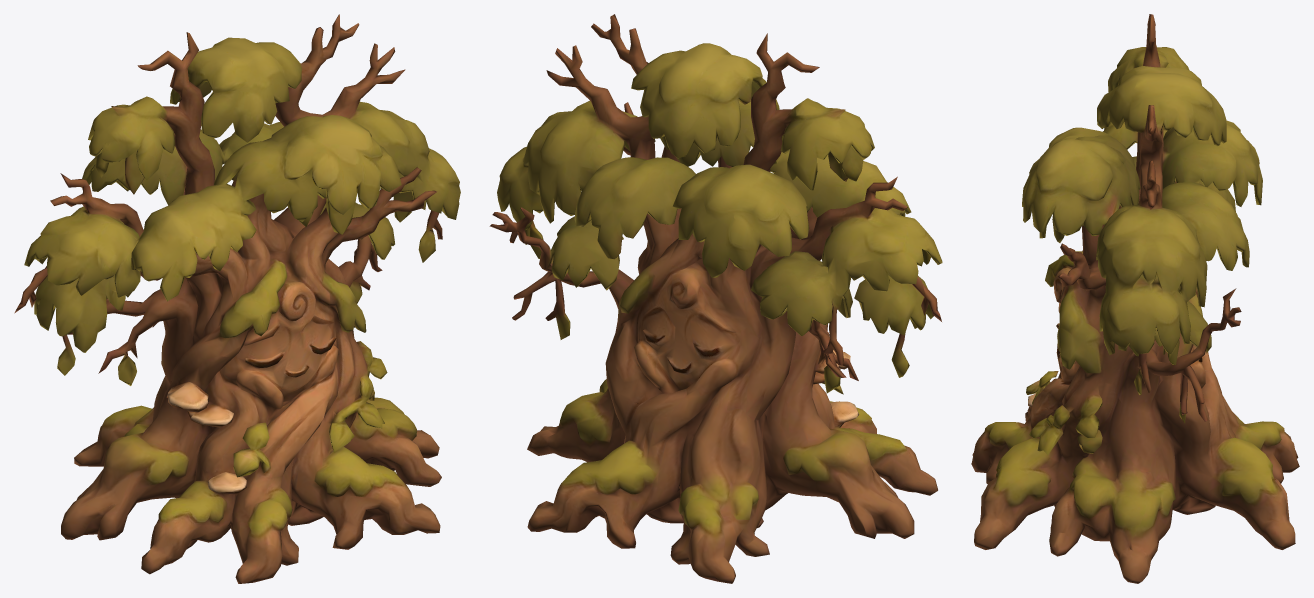
The model's file is great_tree.glb.
3 renders of one model, left to right at view 1: azimuth 30°, elevation 25°; view 2: azimuth 150°, elevation 25°; view 3: azimuth 270°, elevation 25°, orthographic. The views are drawn at different scales.
Parts seen in each view (by area): view 1: tripo_node_7c3dd7ee-79f6-4a46-974d-d03e5a8f0c5c; view 2: tripo_node_7c3dd7ee-79f6-4a46-974d-d03e5a8f0c5c; view 3: tripo_node_7c3dd7ee-79f6-4a46-974d-d03e5a8f0c5c.
Boxes of the visible parts, x1,y1,x2,y2 form: tripo_node_7c3dd7ee-79f6-4a46-974d-d03e5a8f0c5c: (14,14,460,583); tripo_node_7c3dd7ee-79f6-4a46-974d-d03e5a8f0c5c: (489,14,942,583); tripo_node_7c3dd7ee-79f6-4a46-974d-d03e5a8f0c5c: (971,14,1299,583).
Size of the model in its own units: 0.9469 by 1 by 0.6472.
Materials: 1 (1 with a texture image).
